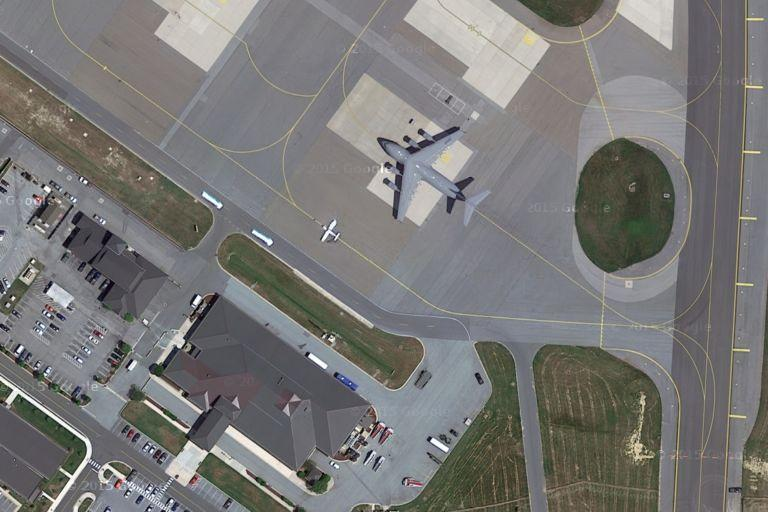C-17: (372, 125, 498, 227)
